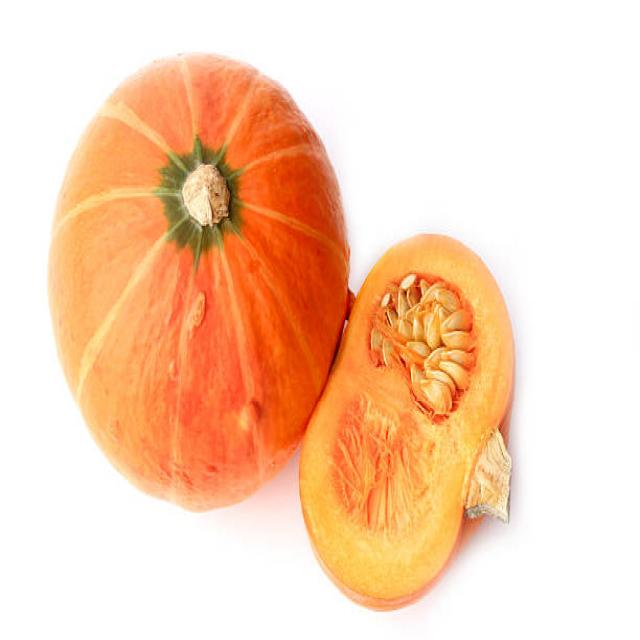Pumpkin: (44, 46, 324, 517), (299, 225, 521, 603)
